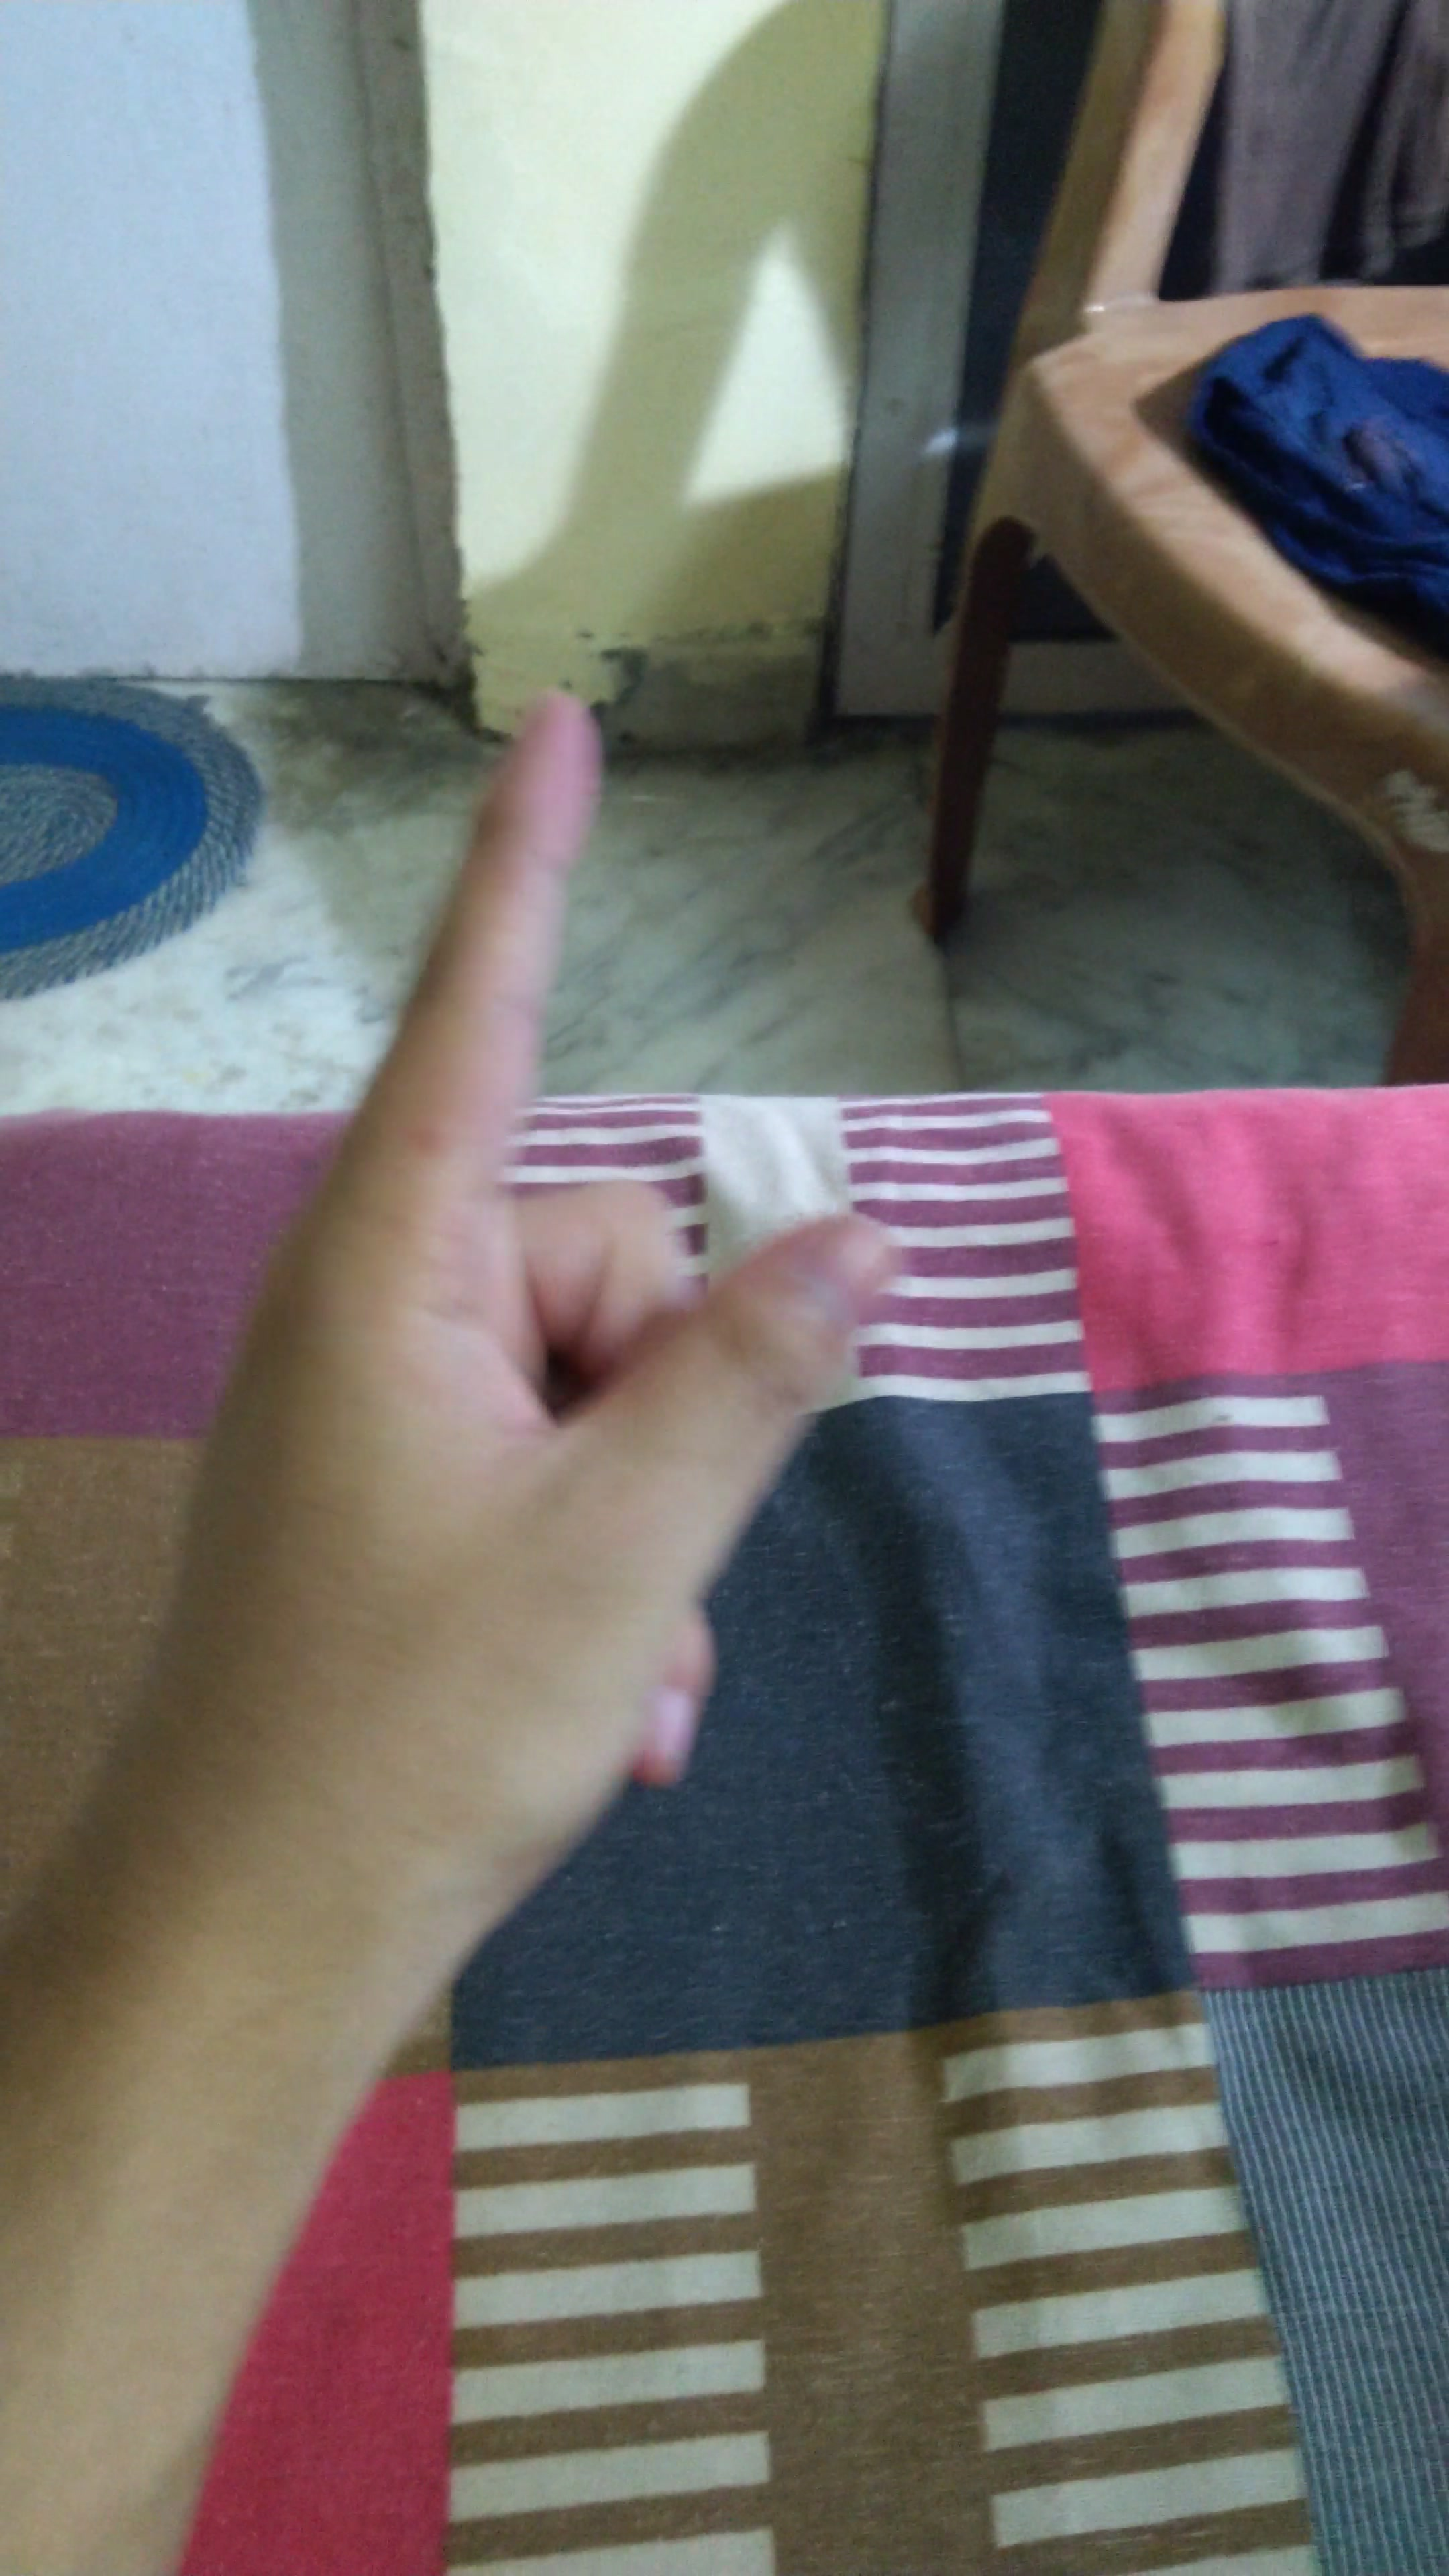hand: (113, 683, 966, 1943)
